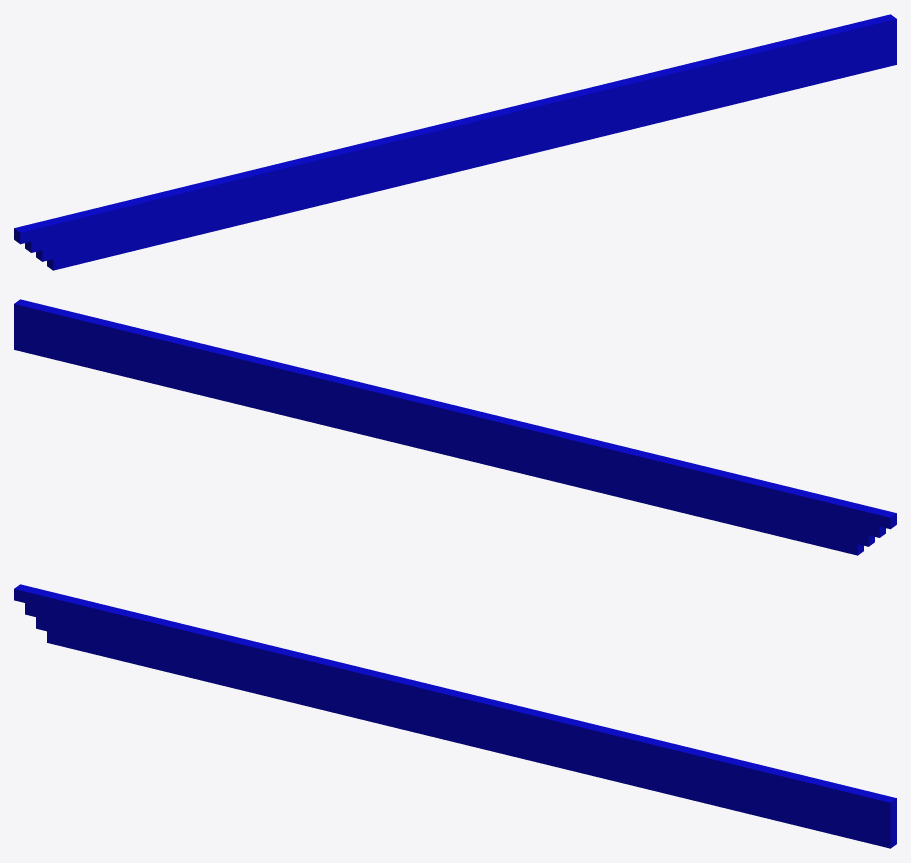
The model's file is HeroMpBar.obj.
3 views of the same model, one above another, from view 1: azimuth 30°, elevation 25°; view 2: azimuth 150°, elevation 25°; view 3: azimuth 330°, elevation 25° (orthographic).
Bounding box in the file's own units: 80 × 4 × 1.
Materials: 1 (1 with a texture image).
